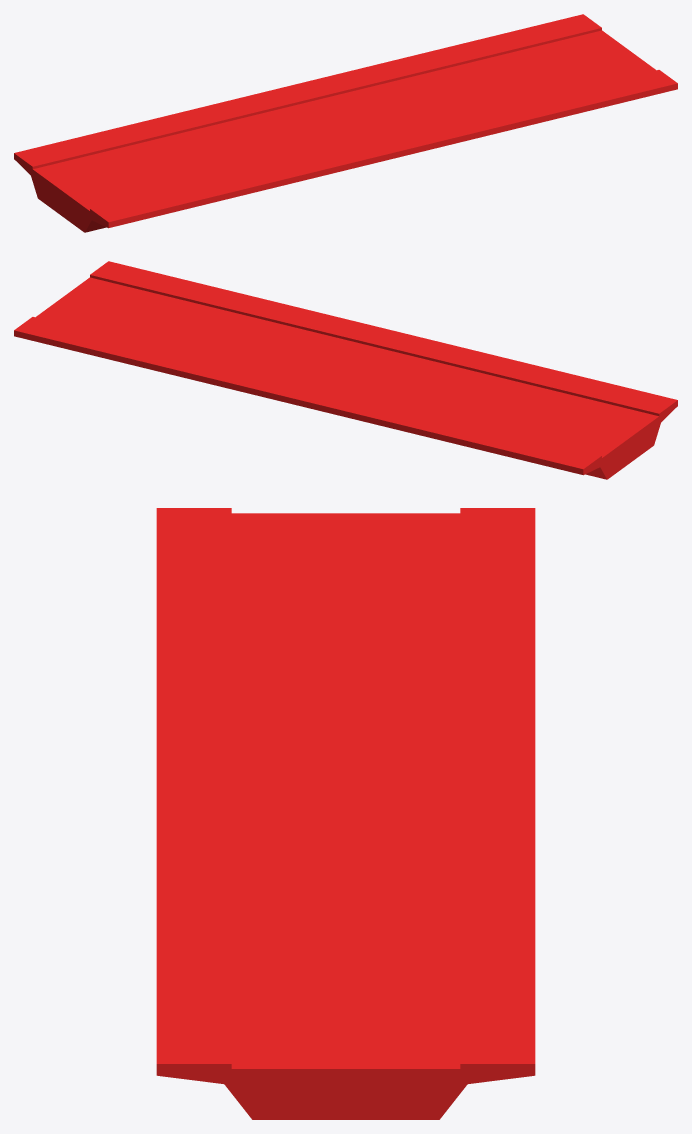
The model's file is ar_testUeberbau1.obj.
3 renders of one model, top to bottom at view 1: azimuth 30°, elevation 25°; view 2: azimuth 150°, elevation 25°; view 3: azimuth 270°, elevation 25°, orthographic. The views are drawn at different scales.
Bounding box in the file's own units: 70.21 × 3.3 × 20.2.
